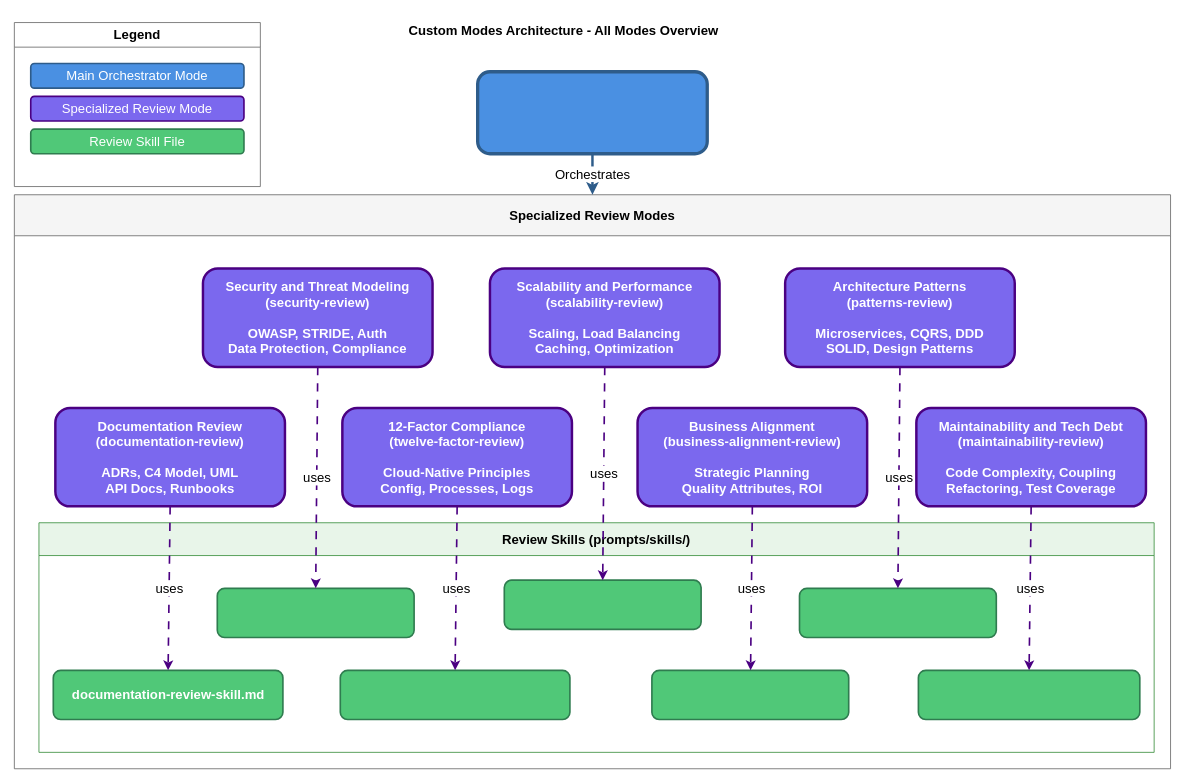
Image size: 1185x783. Some labels were removed from this diagram. Here are the shapes that lost their labels. From the top down, the centre of each, then its label:
point (592, 112): Architecture Review (arch-review) Main Orchestrator
point (315, 612): security-threat-modeling-skill.md
point (602, 604): scalability-performance-skill.md
point (897, 612): architecture-patterns-skill.md
point (454, 694): twelve-factor-compliance-skill.md
point (750, 694): business-alignment-skill.md
point (1028, 694): maintainability-technical-debt-skill.md
